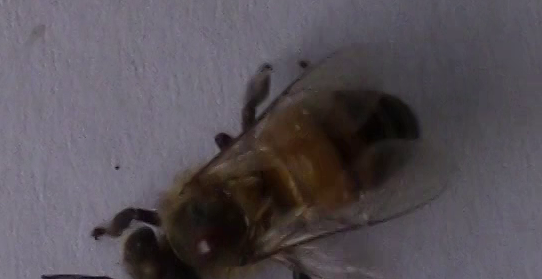Varroa destructor: (186, 230, 236, 265)
